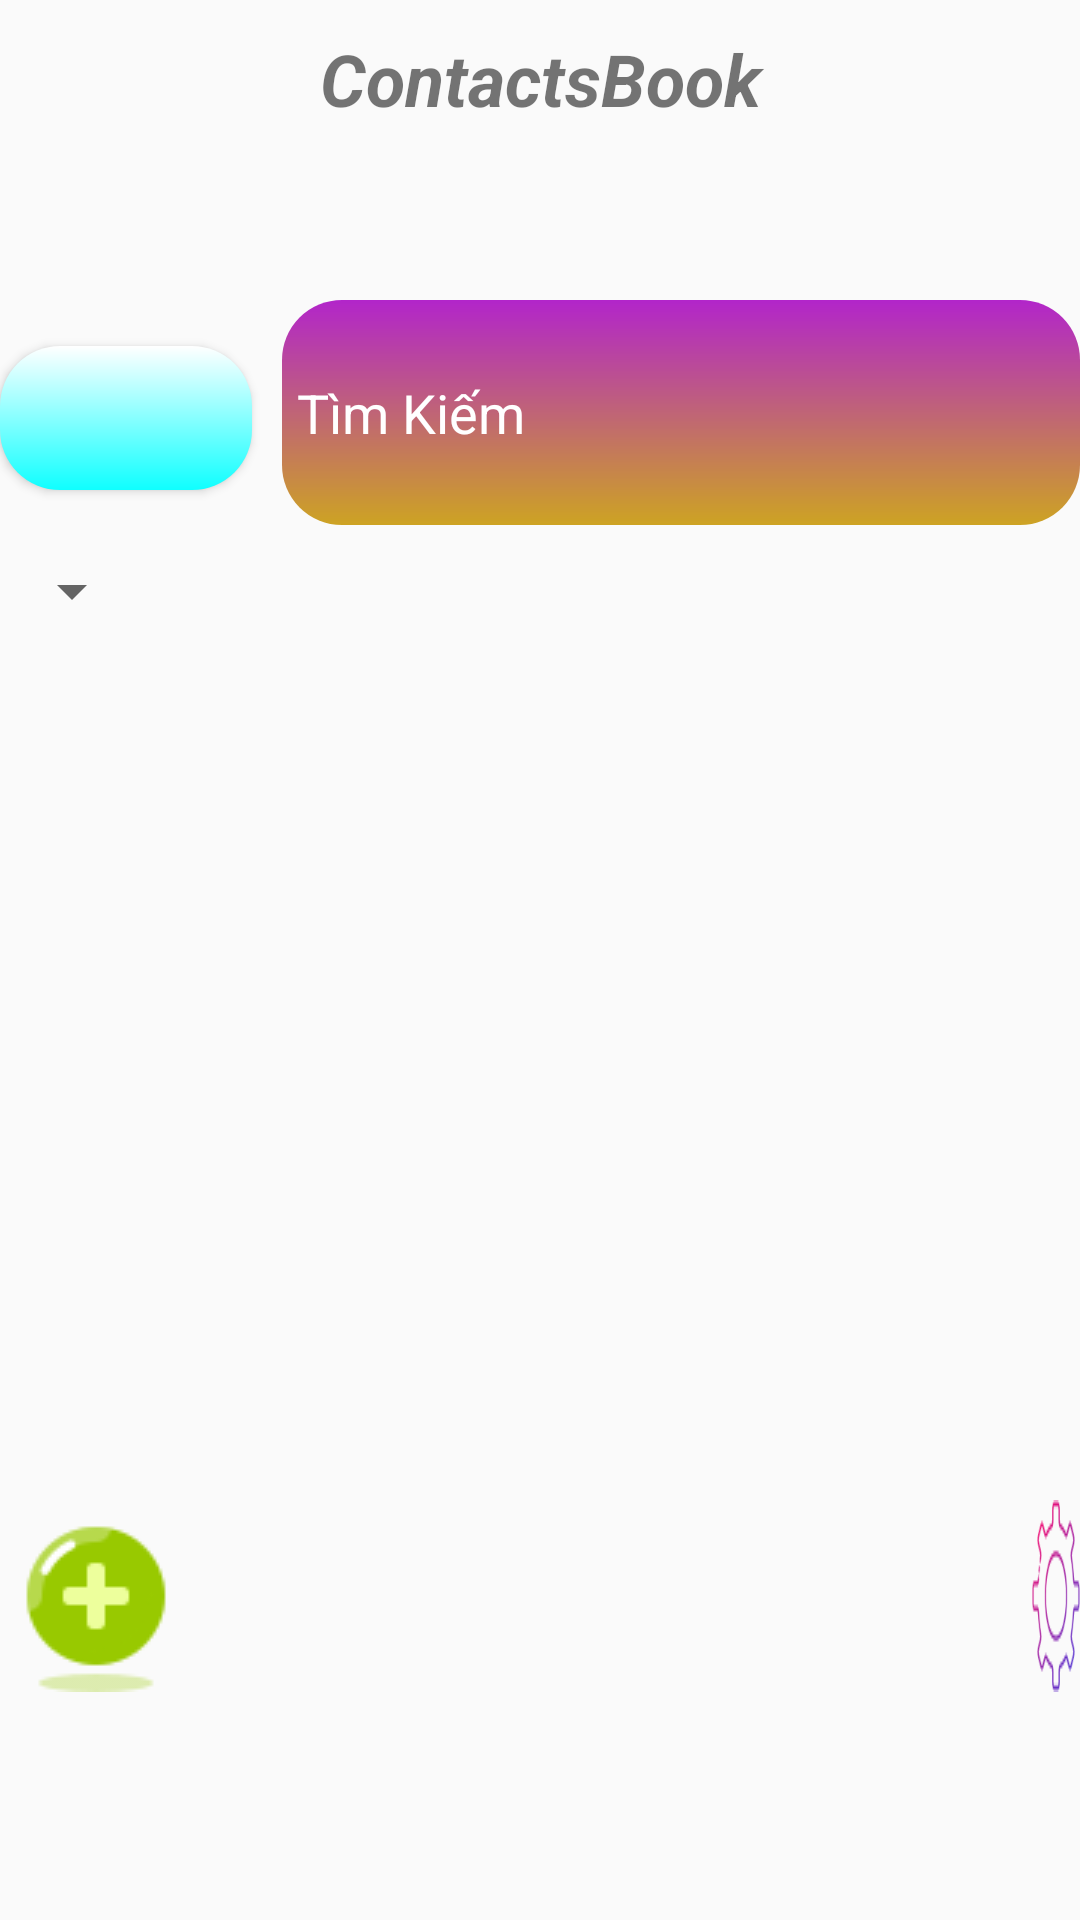

Point at icon controls on the screen. Image size 1080 x 1920, points as (x,y).
add: (96,1609)
option: (1056,1596)
